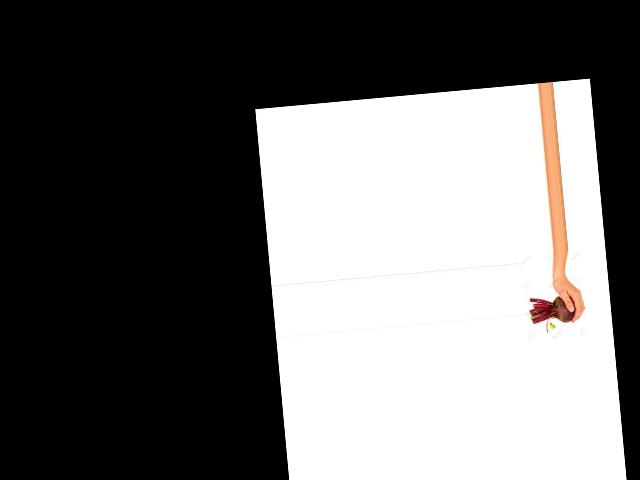beet: (528, 295, 577, 334)
